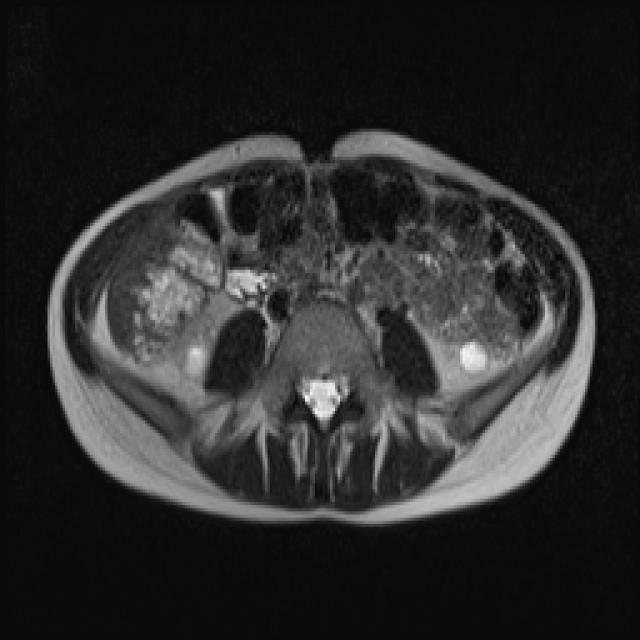sag: (176, 313, 217, 381)
sol: (447, 341, 487, 382)
